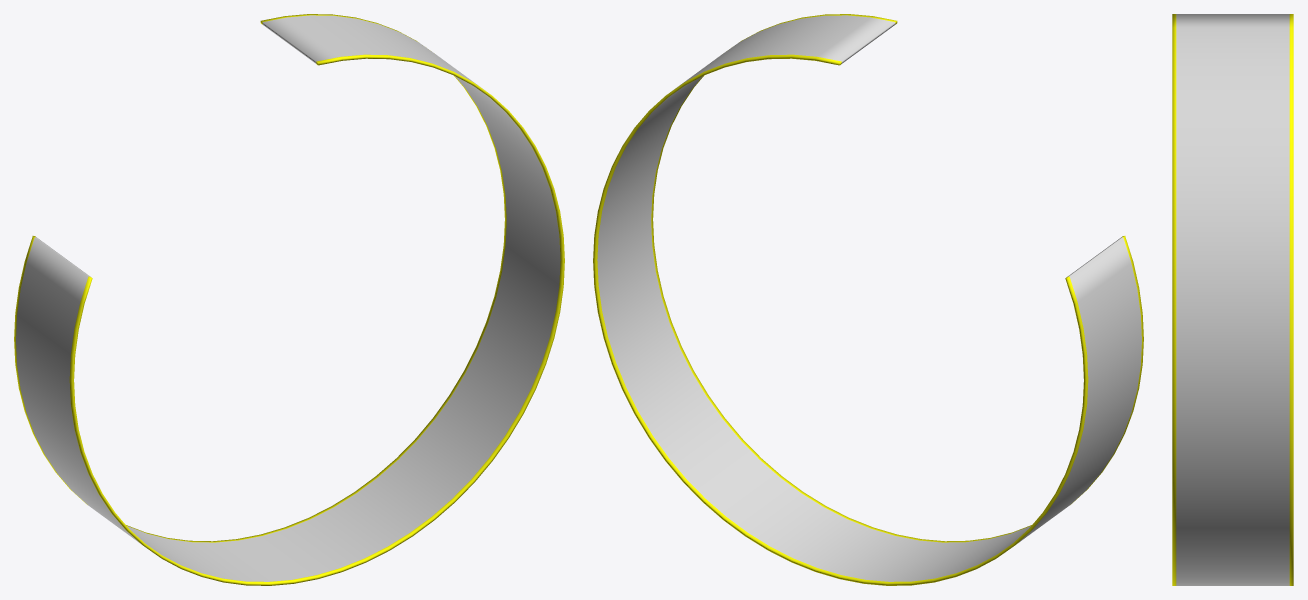
Rendered from NormalNote12.fbx.
3 views of the same model, side by side, from view 1: azimuth 30°, elevation 25°; view 2: azimuth 150°, elevation 25°; view 3: azimuth 270°, elevation 25° (orthographic). The views are drawn at different scales.
Parts seen in each view (by area): view 1: NormalNote12; view 2: NormalNote12; view 3: NormalNote12.
Boxes of the visible parts, x1,y1,x2,y2 form: NormalNote12: (14,14,564,585); NormalNote12: (593,14,1143,585); NormalNote12: (1172,14,1293,585).
Size of the model in its own units: 198 by 40 by 198.
